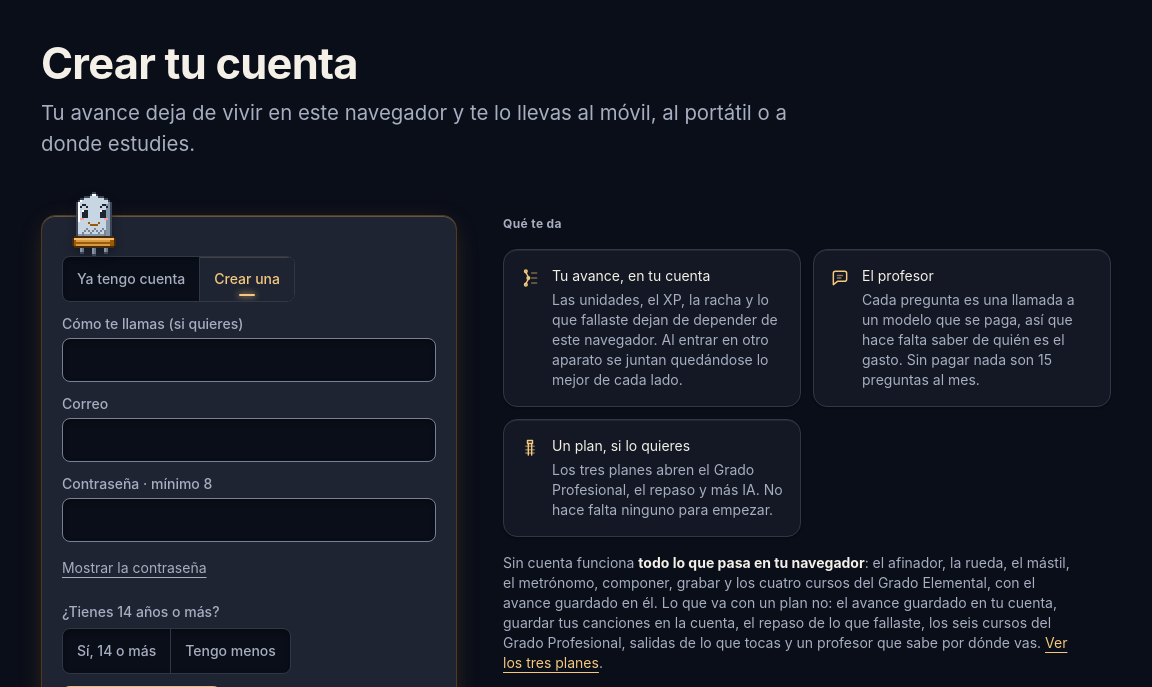
Test: Crear la cuenta › recién creada, lo cuenta como un acierto y manda al camino
Type "javier@example.com" into the field labelled "Correo".
click(249, 440); type("javier@example.com")  # box top-left (62, 418), bottom-right (436, 462)
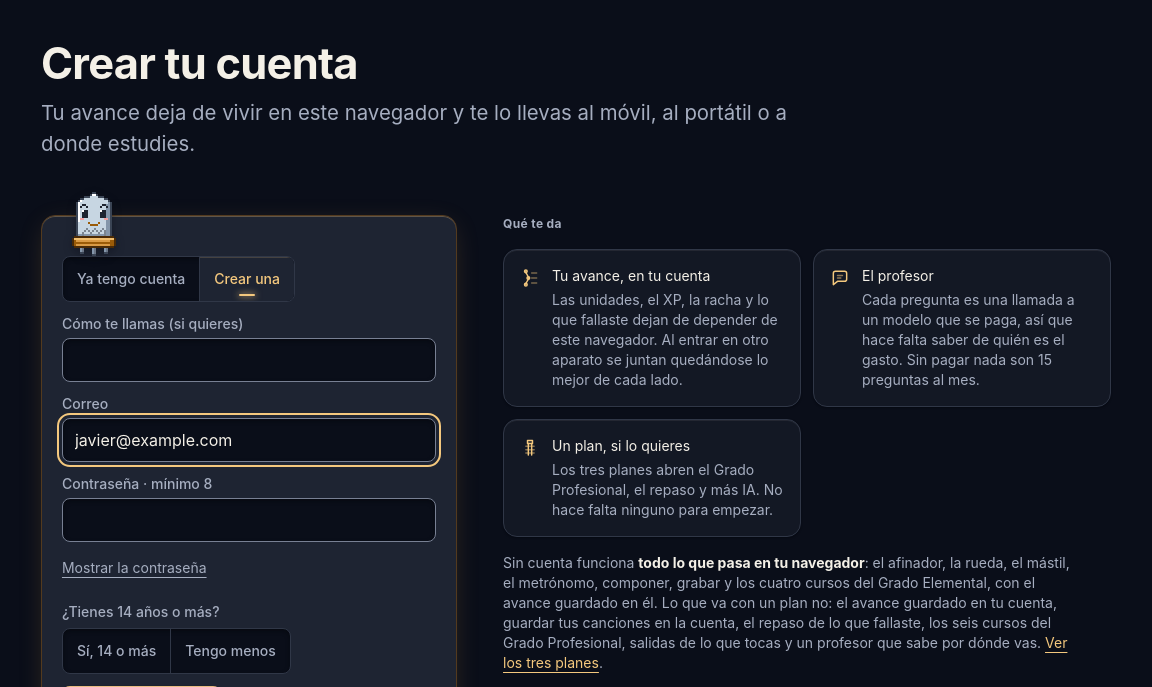
Type "ContrasenaLarga123" into the password field labelled "Contraseña · mínimo 8".
click(249, 520); type("ContrasenaLarga123")  # box top-left (62, 498), bottom-right (436, 542)
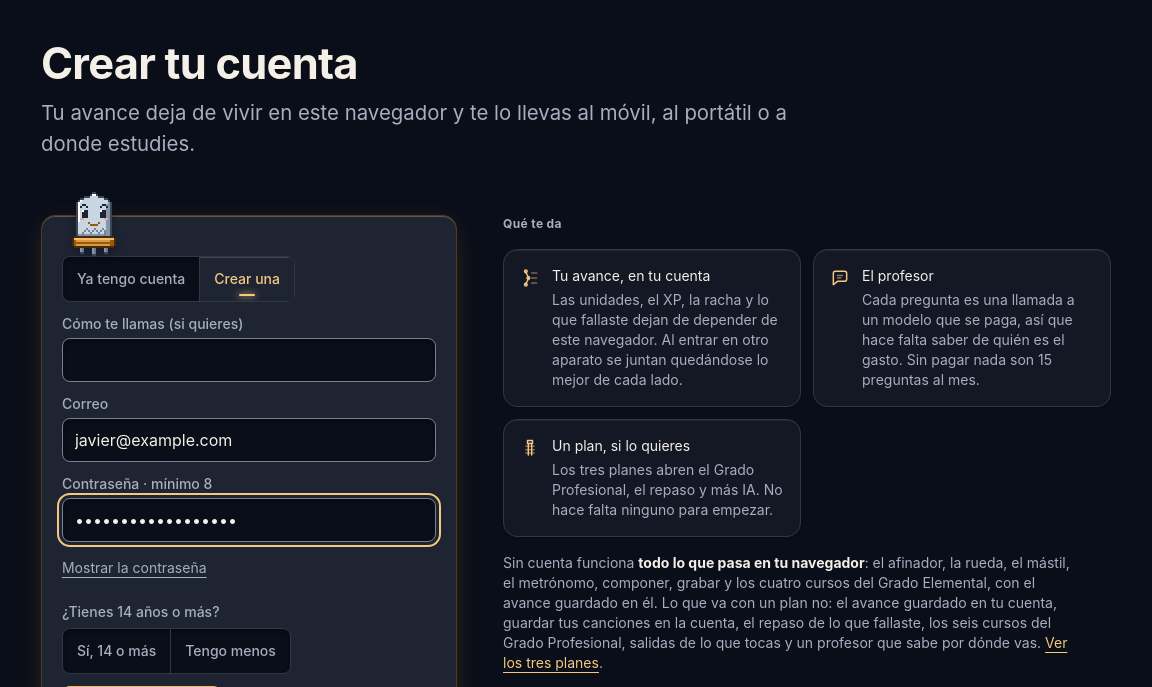
Click the button "Sí, 14 o más".
click(117, 651)  # box top-left (63, 629), bottom-right (170, 673)
(page scrolled)
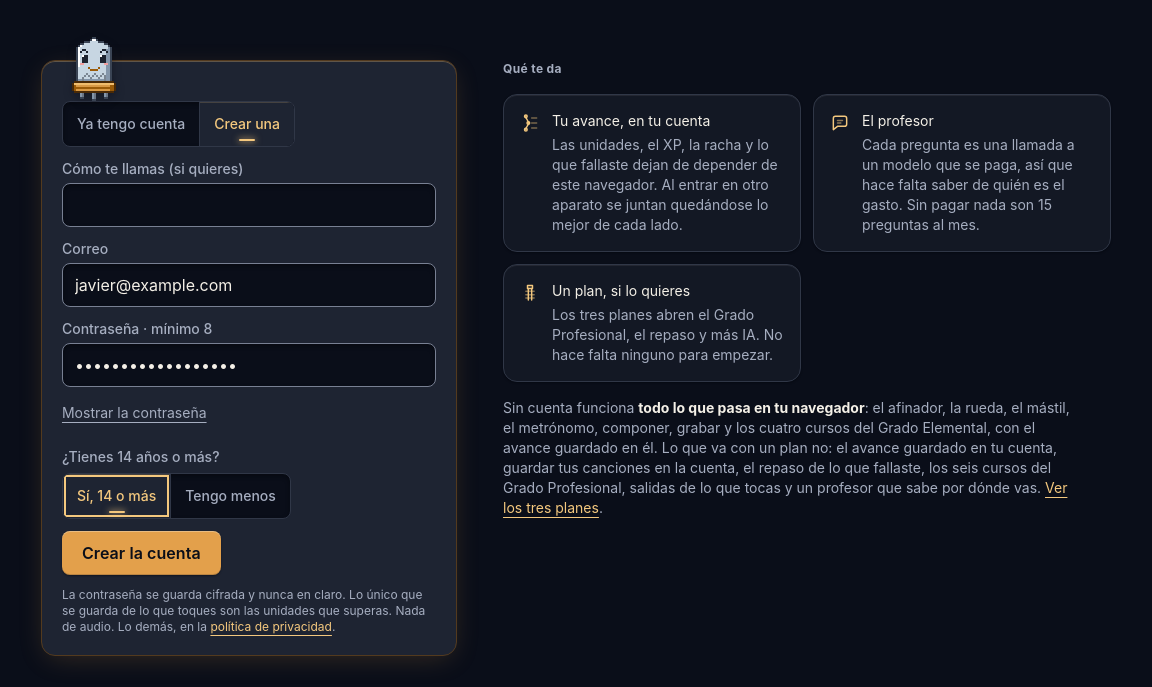
Click the button "Crear la cuenta".
click(141, 553)  # box top-left (62, 531), bottom-right (221, 575)
(page scrolled)
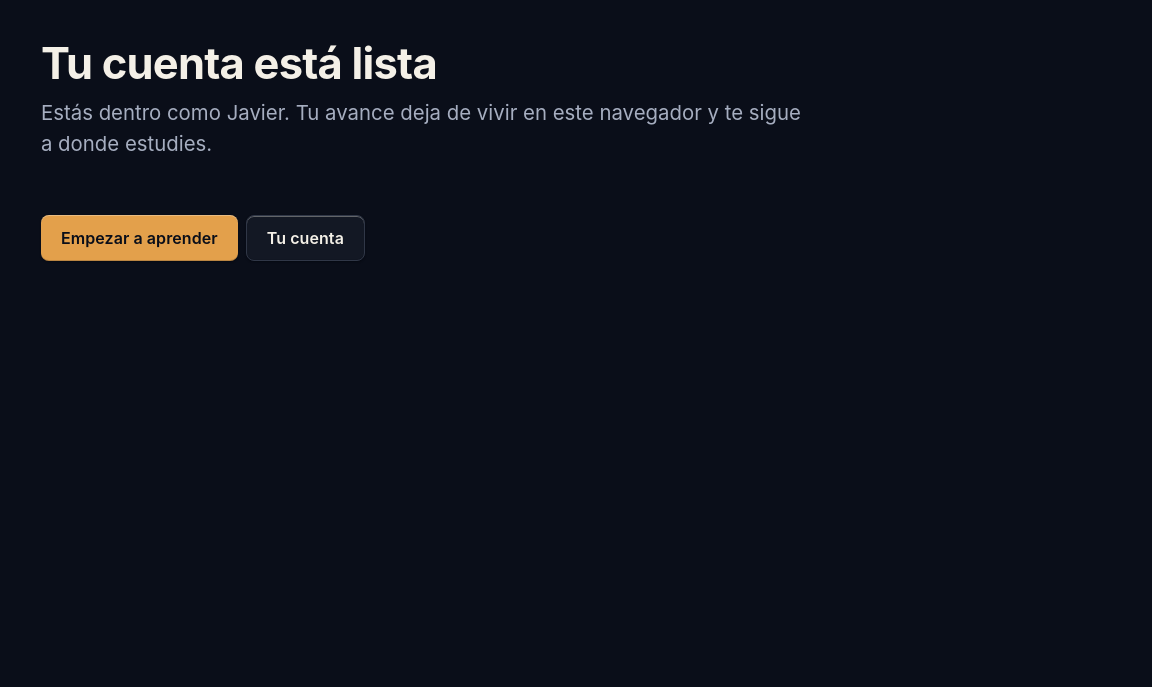
Expected: the heading "Tu cuenta está lista" is shown, top-left (41, 37), bottom-right (437, 89)
